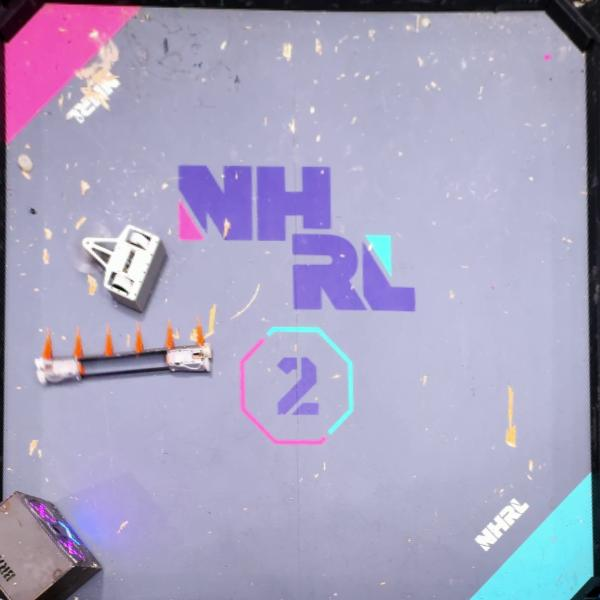housebot: (0, 488, 103, 600)
robot: (36, 316, 215, 388), (70, 218, 169, 312)
